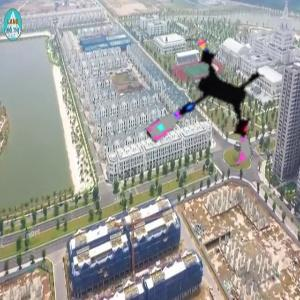drone: (138, 36, 280, 178)
